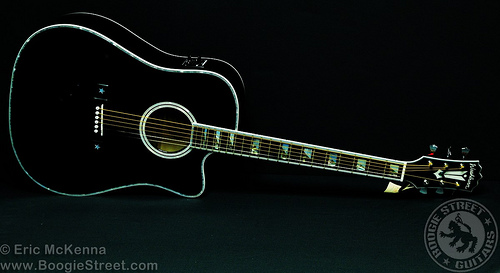guitar: (10, 11, 484, 202)
